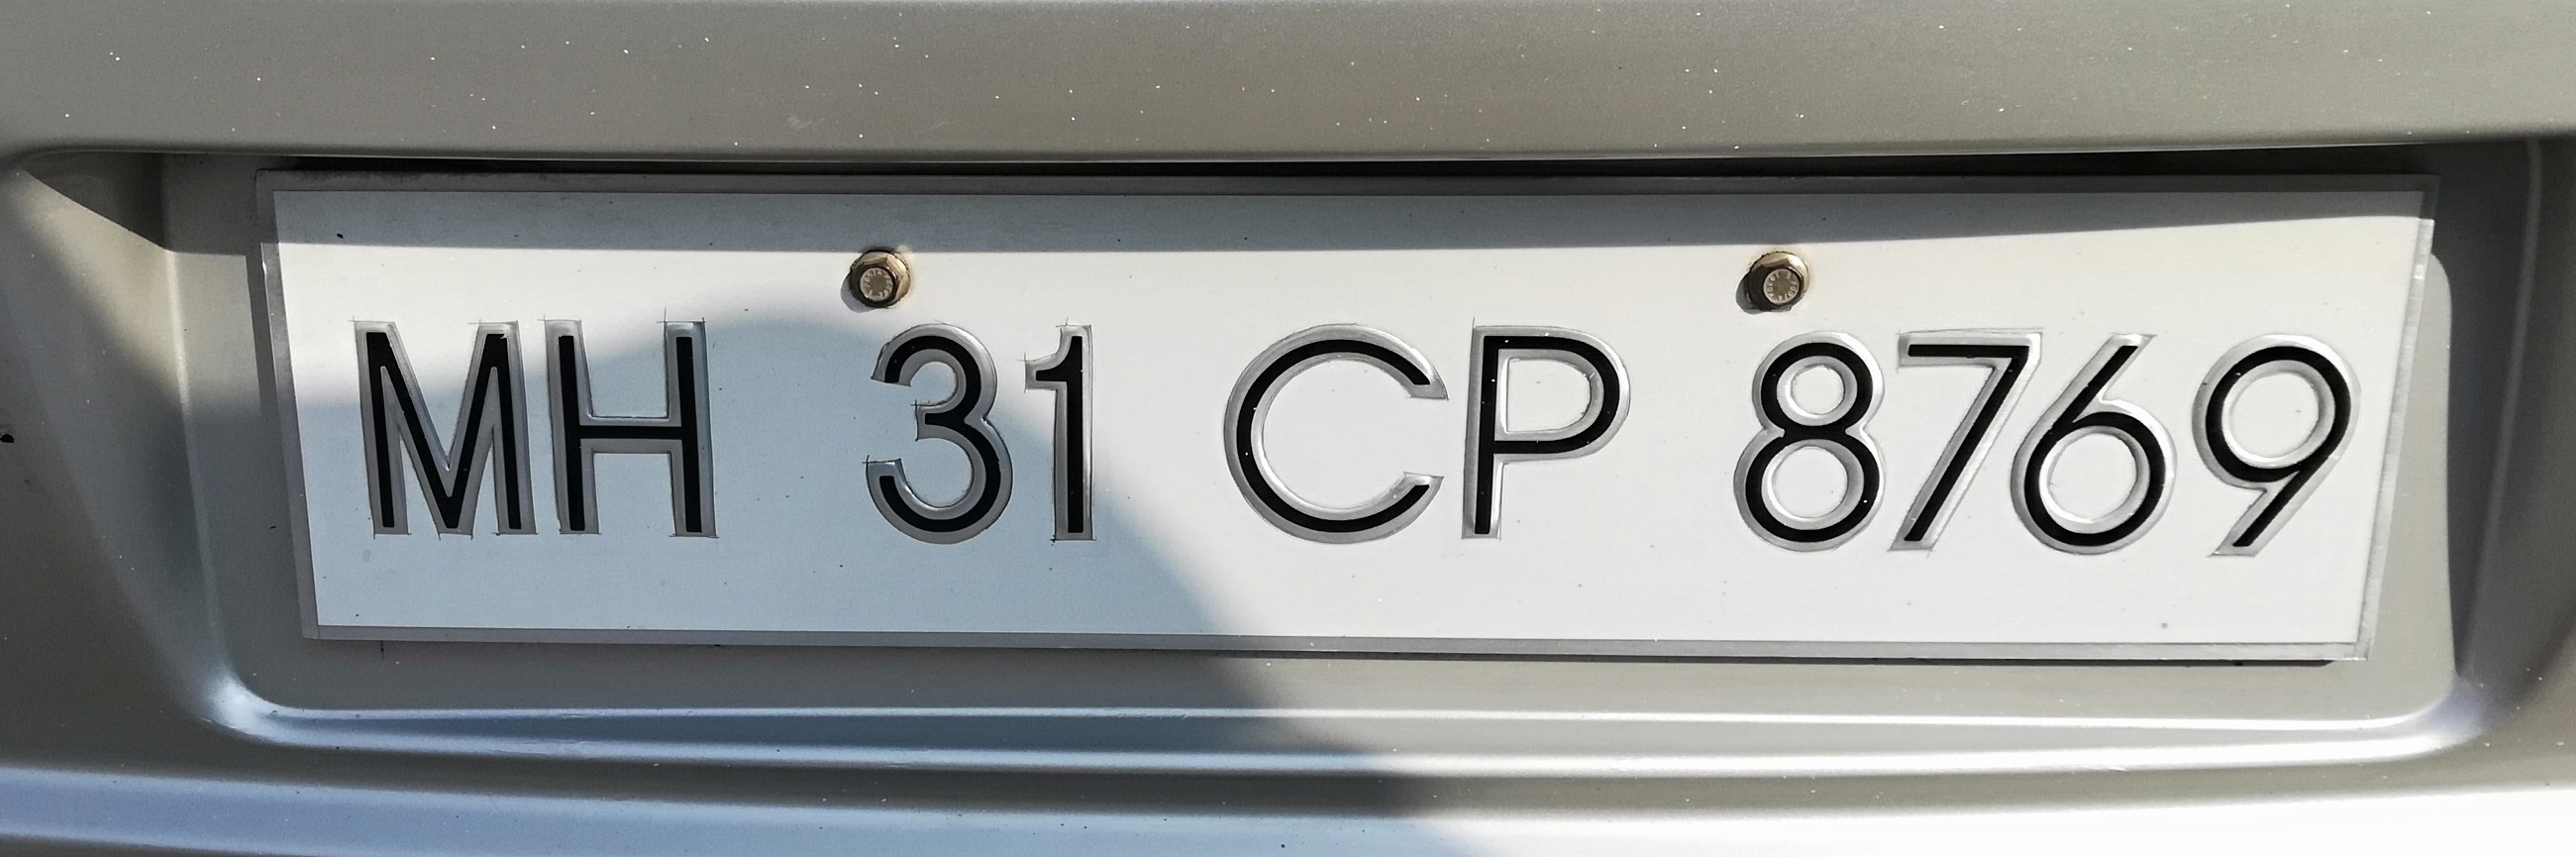numberplate: (253, 163, 2443, 674)
